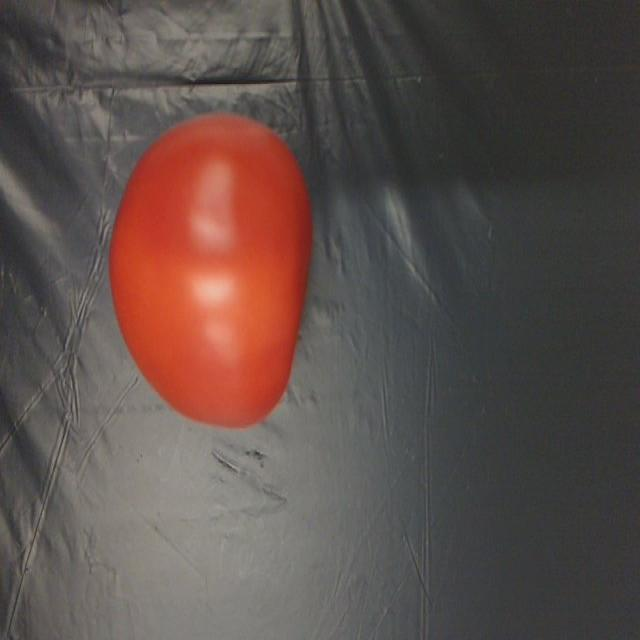kirmizi: (96, 94, 358, 458)
